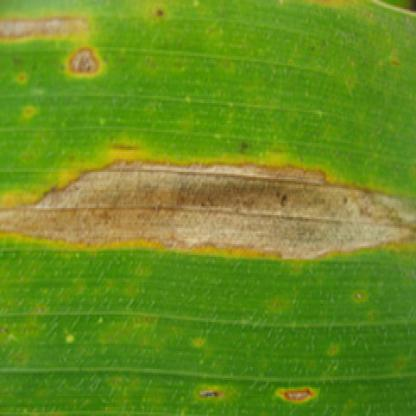Corn Gray leaf spot: (2, 18, 415, 347)
